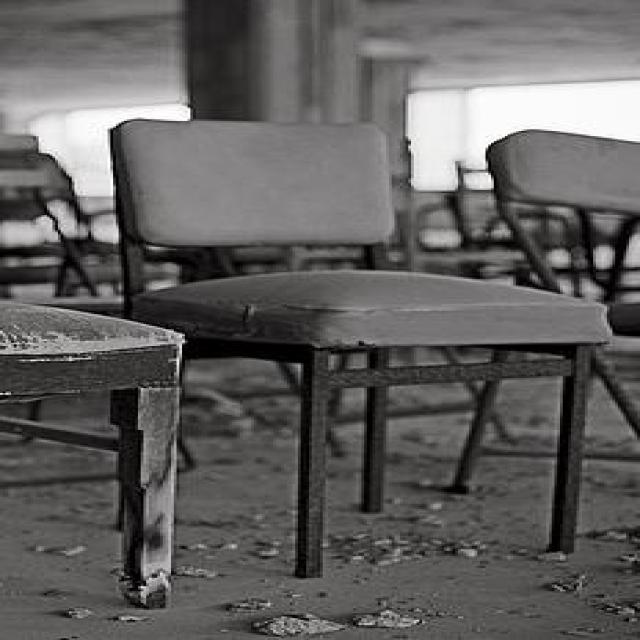chair: (105, 116, 626, 578)
